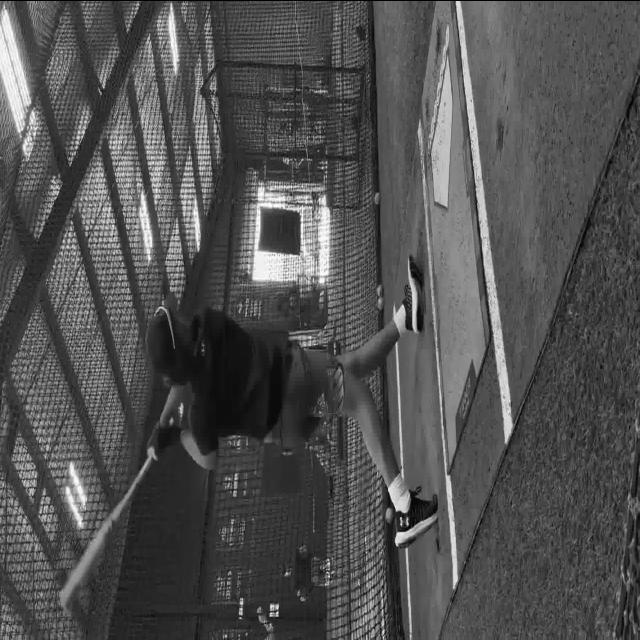base: (432, 44, 452, 211)
baseball: (376, 296, 384, 311), (376, 284, 384, 296), (374, 192, 380, 204)
baseball_glove: (145, 420, 181, 462)
bat: (59, 453, 151, 608)
shoe: (386, 486, 438, 548), (401, 255, 424, 334)
